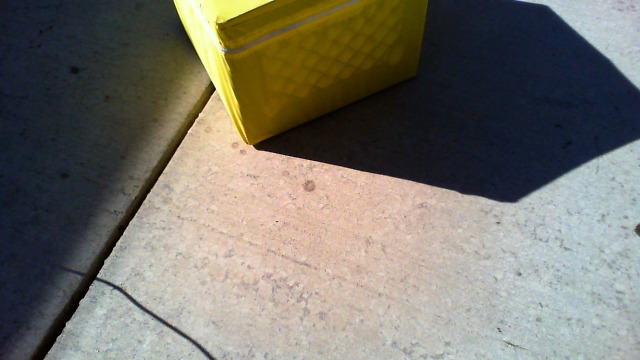cube: (167, 1, 429, 159)
